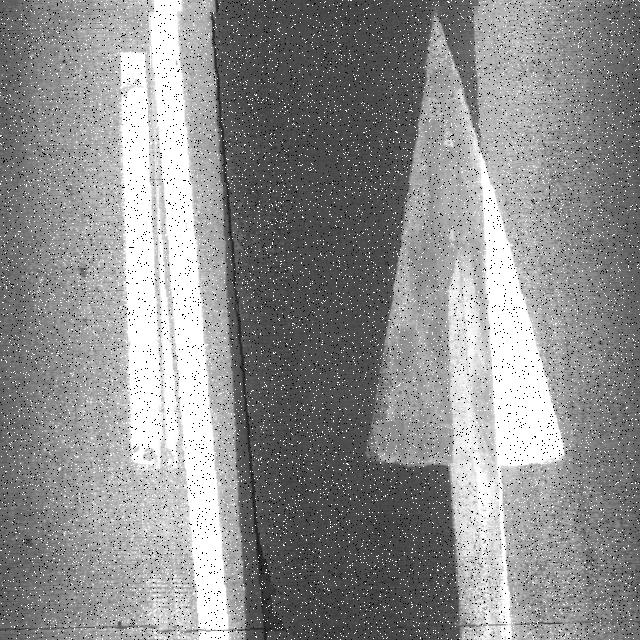forward: (149, 5, 640, 640)
